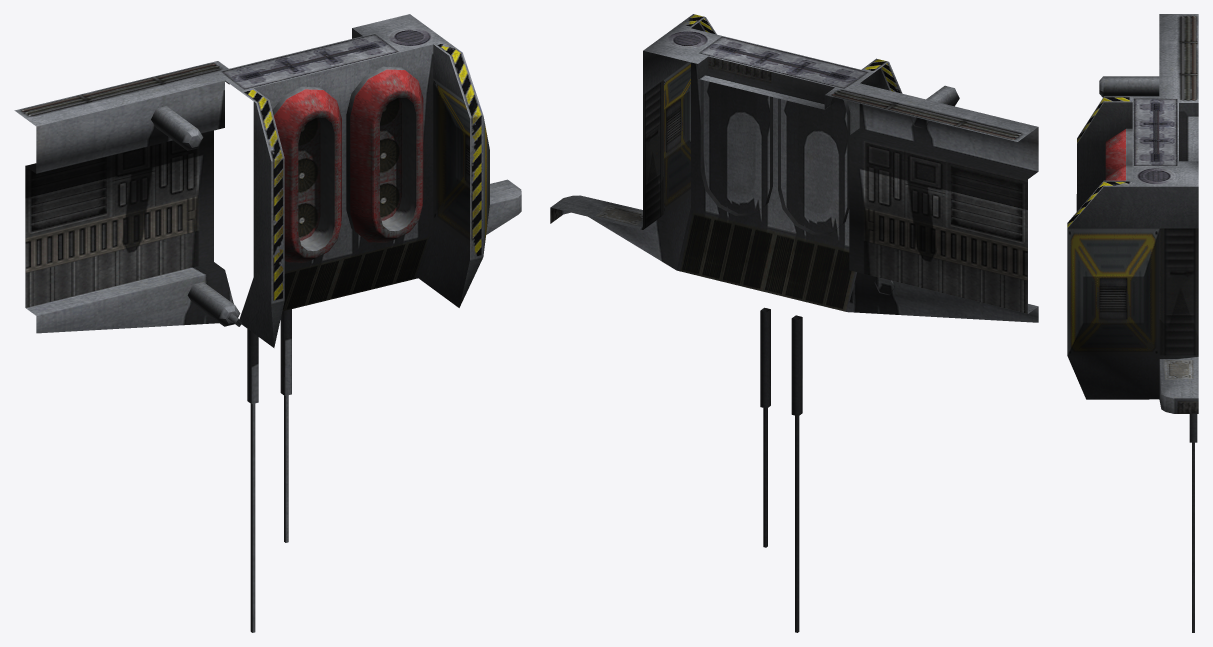
The model's file is ML1_Basic_cap_LF.FBX.
3 renders of one model, left to right at view 1: azimuth 30°, elevation 25°; view 2: azimuth 150°, elevation 25°; view 3: azimuth 270°, elevation 25°, orthographic. The views are drawn at different scales.
Parts seen in each view (by area): view 1: Mesh; view 2: Mesh; view 3: Mesh.
Boxes of the visible parts, x1=… form: Mesh: x1=14, y1=14, x2=521, y2=632; Mesh: x1=550, y1=14, x2=1038, y2=632; Mesh: x1=1067, y1=14, x2=1198, y2=632.
Size of the model in its own units: 9.98 by 11.16 by 2.57.
Materials: 1 (1 with a texture image).
